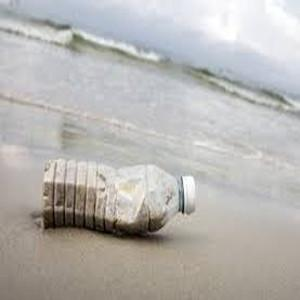Plastic: (38, 154, 201, 237)
